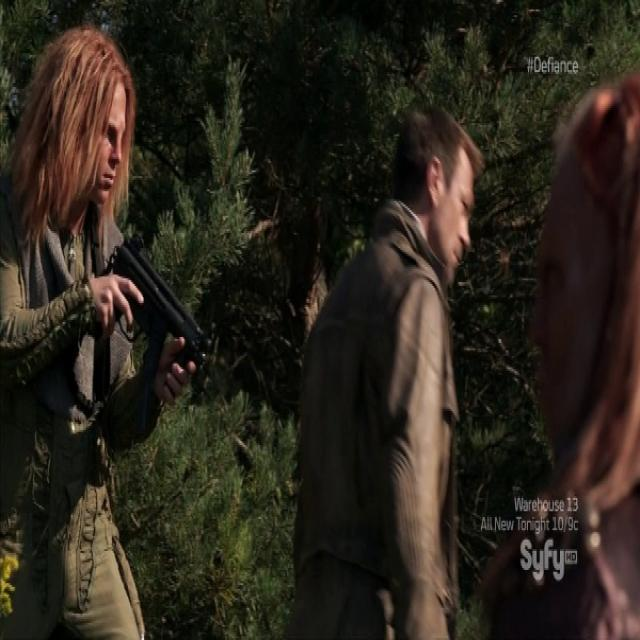rifle: (115, 240, 221, 414)
